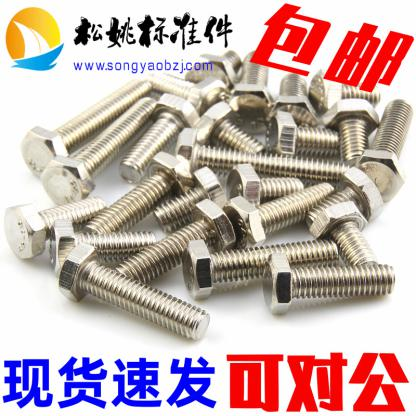FOD: (59, 240, 211, 343), (22, 72, 152, 179), (38, 96, 159, 206), (258, 248, 396, 319), (358, 96, 414, 200), (311, 201, 380, 266)
